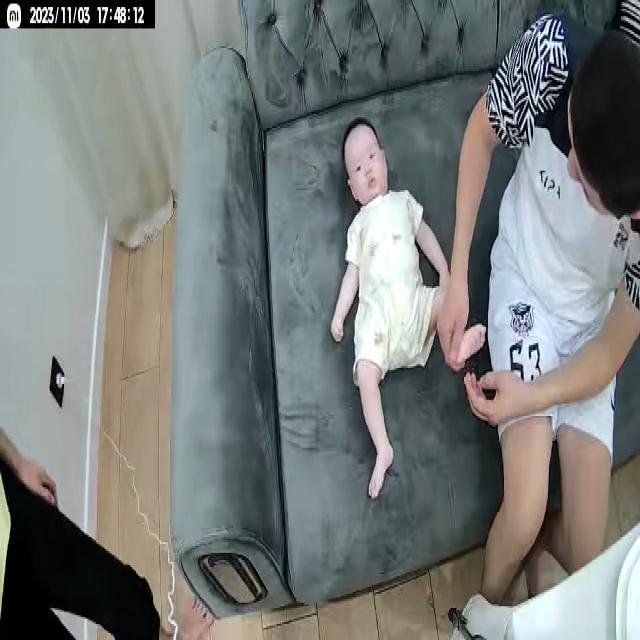baby: (328, 115, 490, 503)
